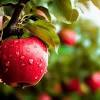Apple: (0, 34, 49, 88), (59, 25, 76, 45), (88, 70, 100, 93), (66, 75, 79, 92), (50, 81, 62, 94), (80, 83, 89, 95), (38, 92, 50, 100)
